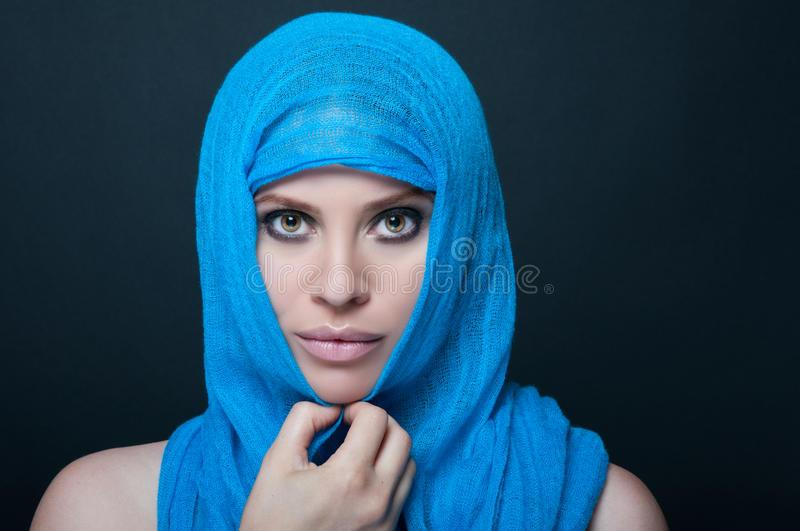No Mask: (223, 106, 497, 471)
